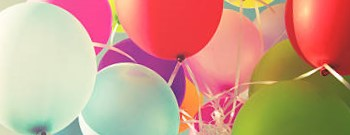Balloon: (1, 2, 98, 135), (79, 62, 181, 135), (232, 79, 347, 135), (115, 1, 224, 59), (286, 1, 350, 73)
